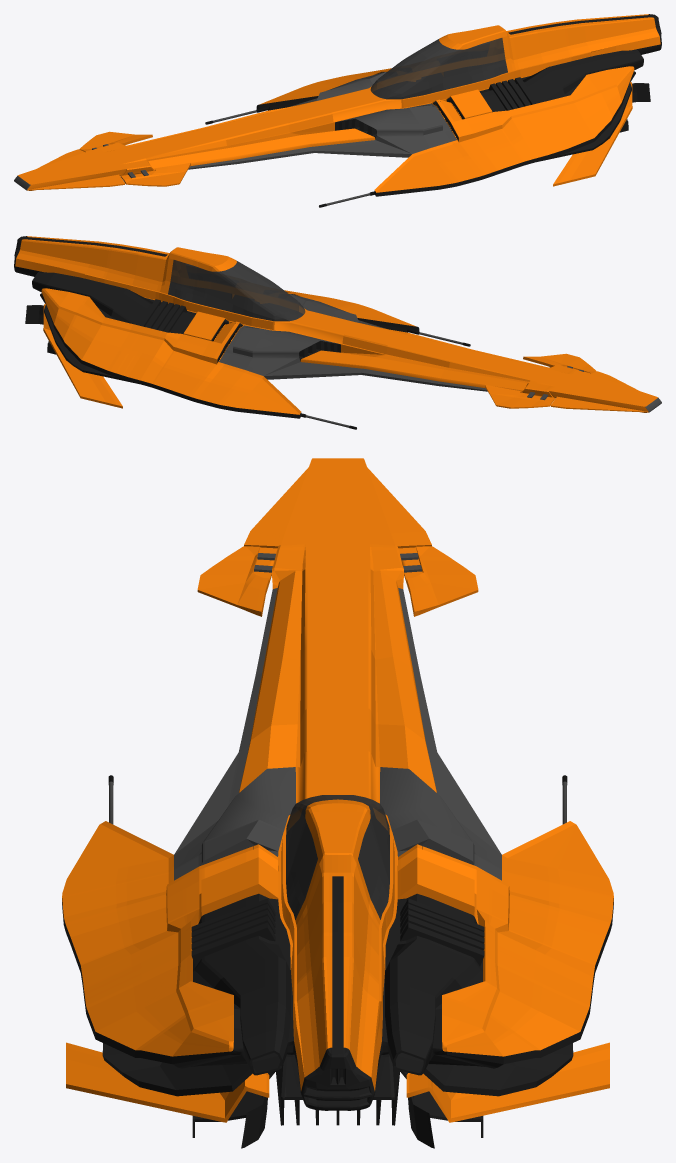
Rendered from vaisseau.obj.
3 views of the same model, one above another, from view 1: azimuth 30°, elevation 25°; view 2: azimuth 150°, elevation 25°; view 3: azimuth 270°, elevation 25° (orthographic). The views are drawn at different scales.
Parts seen in each view (by area): view 1: vaisseau; view 2: vaisseau; view 3: vaisseau.
Part boxes in pixels (x1=…): vaisseau: x1=14, y1=14, x2=661, y2=207; vaisseau: x1=14, y1=236, x2=661, y2=429; vaisseau: x1=62, y1=458, x2=613, y2=1148.
Size of the model in its own units: 3.48 by 0.5495 by 1.31.
